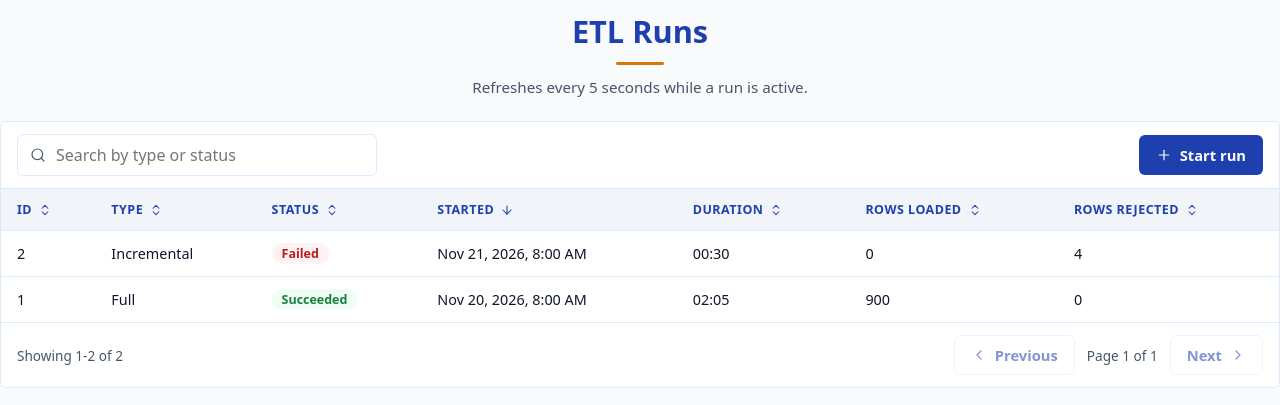
Test case: the search box narrows the loaded runs by type or status
Check: the text "Failed" is shown, box [272, 243, 329, 264]
In the search field labelled "Search": (209, 155) [54, 135, 364, 175], type "full"
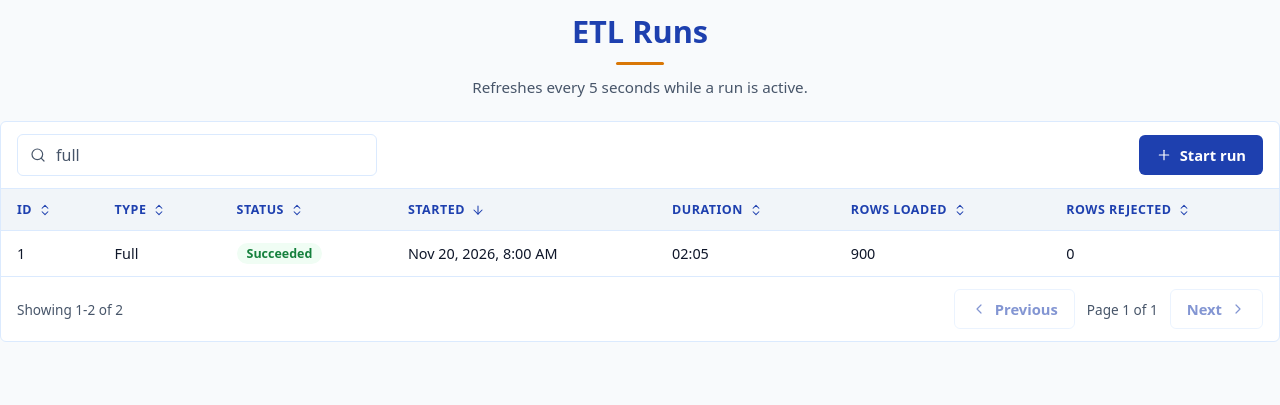
Check: the text "Succeeded" is shown, box [236, 243, 322, 264]
Check: the text "Failed" is gone
